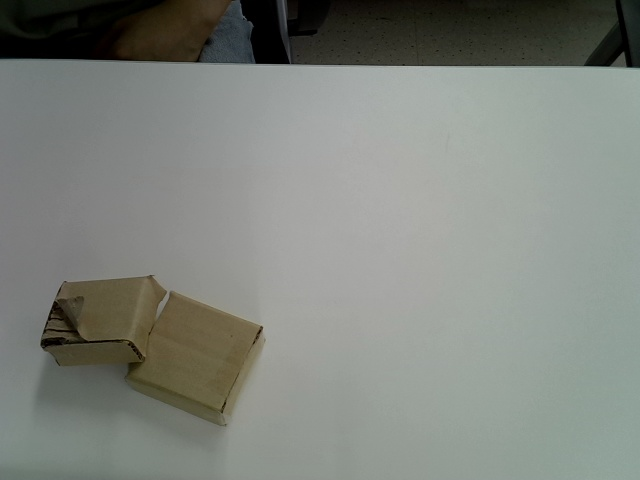defect: (40, 274, 168, 368)
normal: (125, 292, 265, 426)
